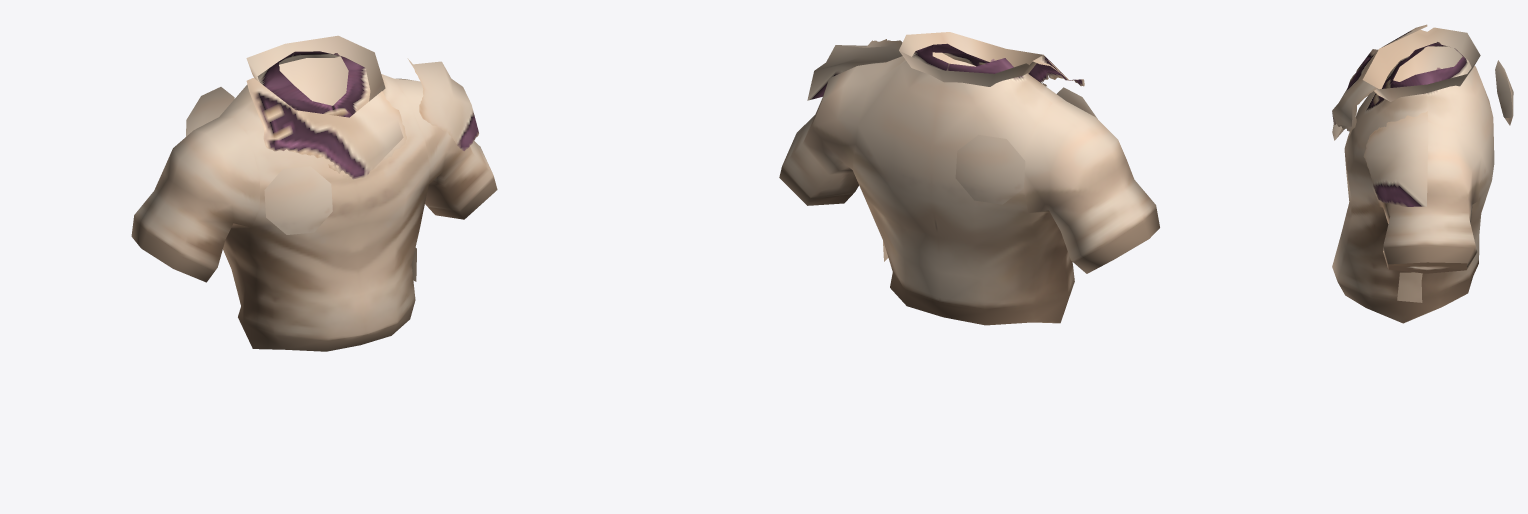
Rendered from hum_desert_01_5503eab5.glb.
3 renders of one model, left to right at view 1: azimuth 30°, elevation 25°; view 2: azimuth 150°, elevation 25°; view 3: azimuth 270°, elevation 25°, orthographic. The views are drawn at different scales.
Bounding box in the file's own units: 1.73 × 1.08 × 0.5159.
1 material, 1 textured.
